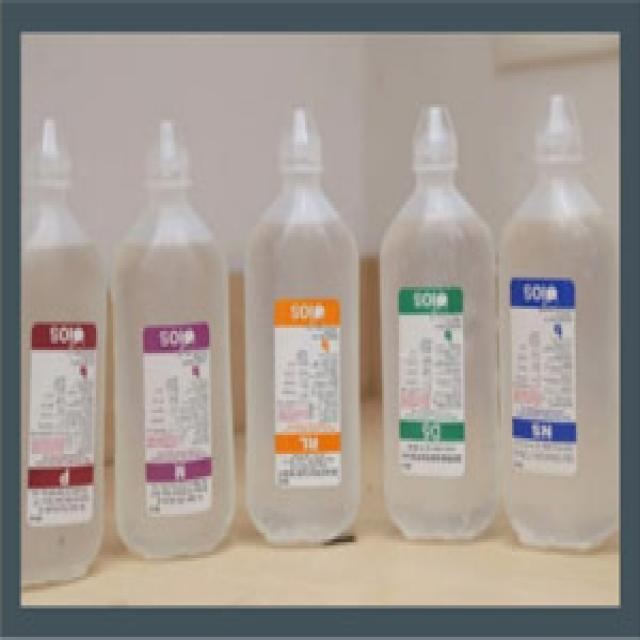B3: (239, 102, 369, 572), (111, 110, 240, 583), (498, 93, 620, 568), (377, 98, 497, 557), (26, 117, 111, 604)
